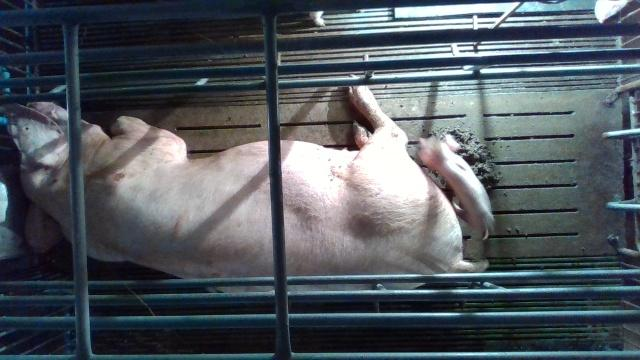piglet: (418, 136, 494, 239)
sow-sleep: (2, 73, 492, 293)
